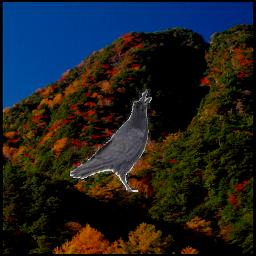Crow: (70, 88, 152, 192)
